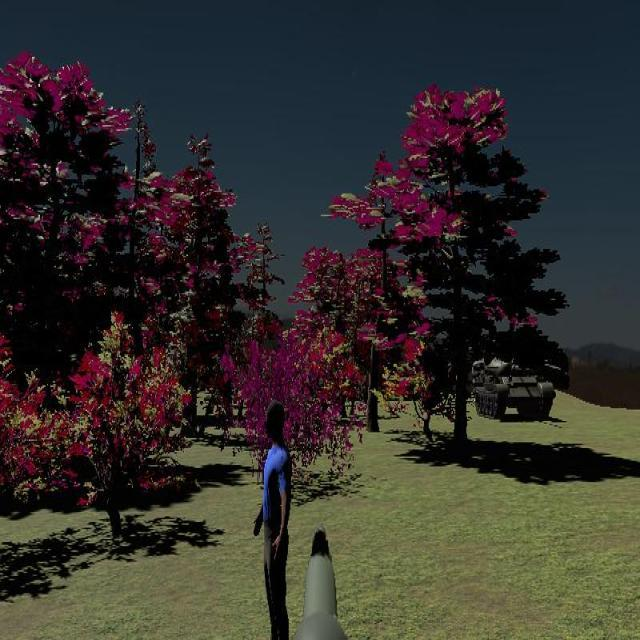Human: (255, 398, 294, 640)
Tank: (472, 352, 556, 421)
